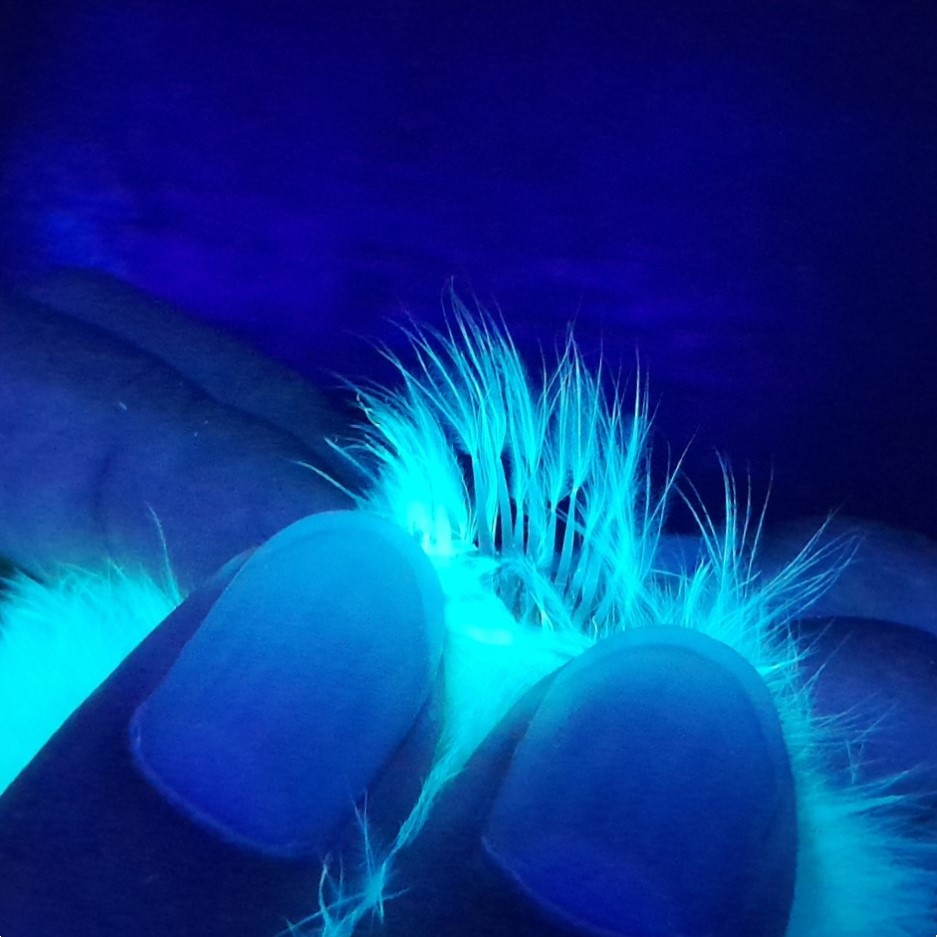male: (450, 388, 650, 642)
